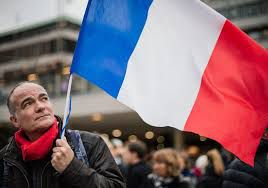French Flag: (67, 1, 268, 167)
